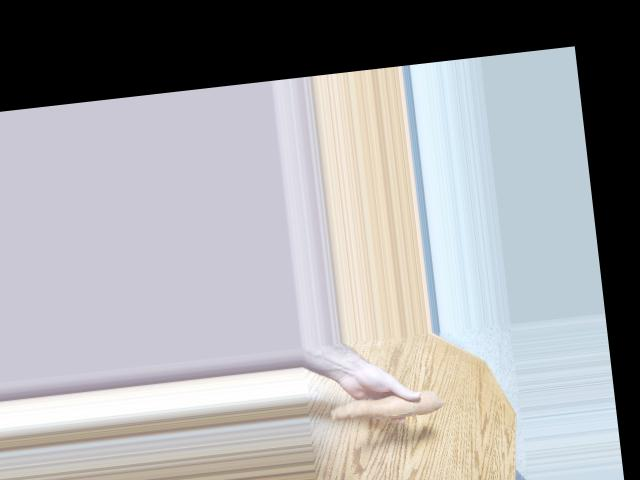sweet_potato: (329, 384, 439, 428)
